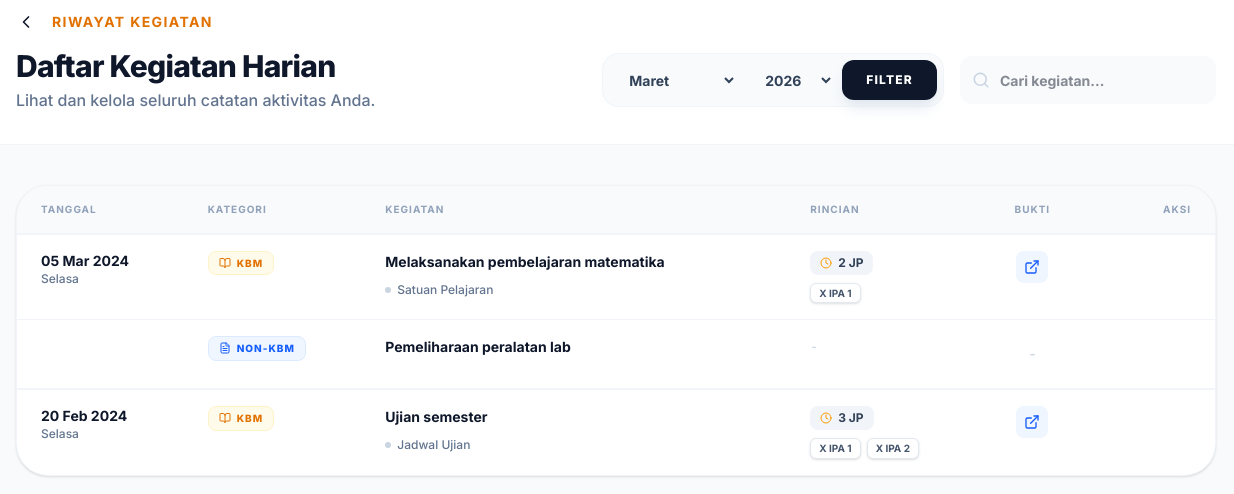
Test: ActivitiesClient › should filter by category name
Expected: the text "Pemeliharaan peralatan lab" is shown, 385,338 -> 571,355
Step 1. Type "KBM" into the field with placeholder "Cari kegiatan..." → (1088, 80), box 960,56 -> 1216,104
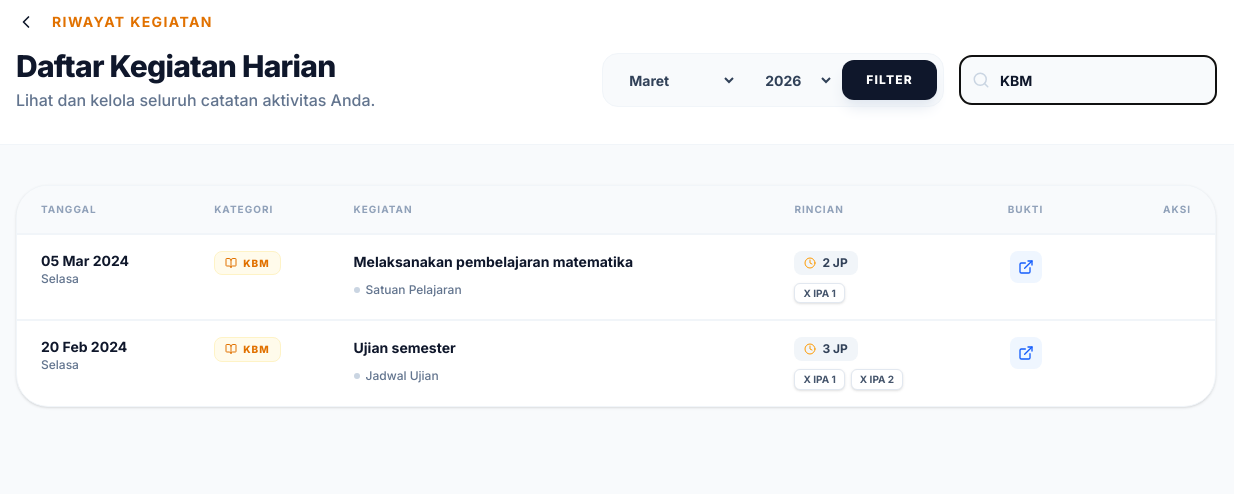
Expected: the text "Melaksanakan pembelajaran matematika" is shown, 354,253 -> 633,270
Expected: the text "Pemeliharaan peralatan lab" is not shown
